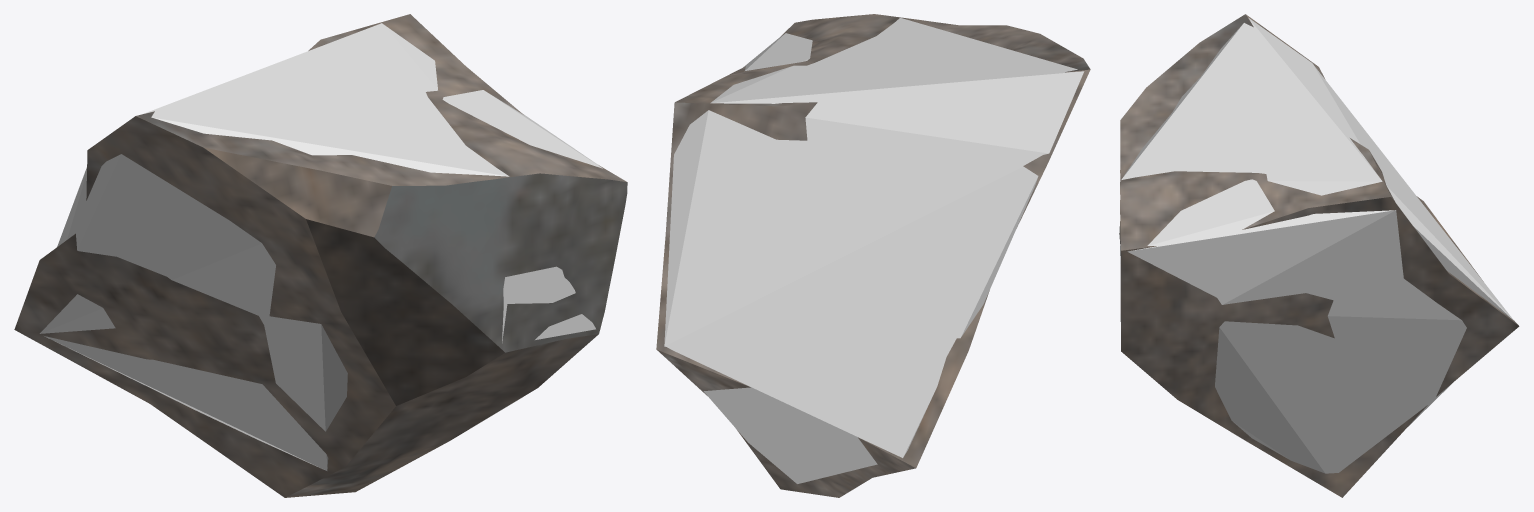
The model's file is SM_Rock_34.fbx.
3 views of the same model, side by side, from view 1: azimuth 30°, elevation 25°; view 2: azimuth 150°, elevation 25°; view 3: azimuth 270°, elevation 25° (orthographic). The views are drawn at different scales.
Visible parts, largest first — view 1: SM_Rock_34_LOD0, SM_Rock_34_ConvexHulls; view 2: SM_Rock_34_ConvexHulls, SM_Rock_34_LOD0; view 3: SM_Rock_34_ConvexHulls, SM_Rock_34_LOD0.
Part boxes in pixels (x1,y1,x2,y2): SM_Rock_34_LOD0: (14,14,627,497); SM_Rock_34_ConvexHulls: (39,23,602,470); SM_Rock_34_ConvexHulls: (664,17,1084,483); SM_Rock_34_LOD0: (656,14,1090,497); SM_Rock_34_ConvexHulls: (1121,18,1513,473); SM_Rock_34_LOD0: (1119,14,1519,497).
Size of the model in its own units: 33.89 by 37.11 by 38.66.
